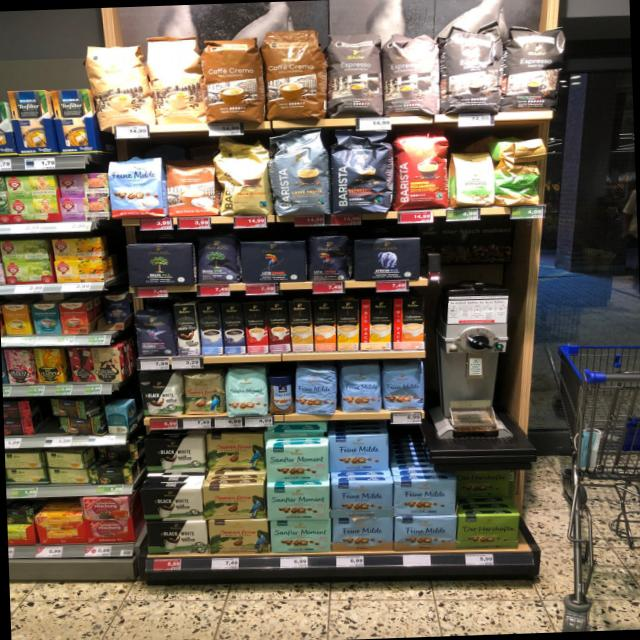AB Gemahlen: (352, 236, 422, 282)
Athiopien Bohne: (496, 160, 543, 208)
Athiopien Gemahlen: (450, 148, 496, 206)
BM Bohne: (197, 232, 240, 284)
BM Gemahlen: (126, 240, 197, 288)
BW Bohne: (137, 370, 181, 418)
BW Gemahlen: (144, 436, 206, 475), (146, 518, 208, 556), (140, 486, 204, 522)
Barista CB: (213, 146, 272, 217)
Barista CC: (269, 130, 330, 217)
Barista Espresso: (330, 126, 396, 214)
Barista Kolumbien: (394, 131, 452, 211)
C Fino Bohne: (133, 310, 175, 358)
CC Mild: (83, 42, 152, 128), (146, 34, 204, 124)
CC Vollmundig: (163, 162, 220, 218)
CC Vollmundig 36 Pads: (261, 28, 327, 120), (200, 36, 263, 124)
Colombia BB Bohne: (182, 371, 225, 416)
Colombia BB Gemahlen: (202, 482, 266, 520), (208, 517, 270, 555), (206, 430, 264, 470)
Espresso Aromatisch: (324, 29, 384, 118), (382, 30, 441, 115)
Espresso Kraftig: (504, 21, 568, 112)
Espresso S Art: (443, 23, 505, 114)
FM 36 Pads: (106, 156, 166, 220)
FM Bohne: (294, 364, 337, 416), (339, 361, 382, 412), (381, 362, 425, 411)
FM Gemahlen: (394, 513, 457, 552), (328, 432, 389, 472), (394, 477, 456, 516), (331, 478, 394, 516), (332, 515, 394, 552)
FM Instant: (266, 372, 296, 415)
Herzhatfe Mundig: (458, 512, 520, 550)
LG Bohne: (308, 232, 350, 281)
LG Gemahlen: (238, 238, 308, 284)
SM Bohne: (224, 366, 268, 416)
SM Gemahlen: (264, 444, 330, 483), (266, 482, 330, 521), (270, 518, 332, 554)
Simo CCMild: (360, 298, 392, 350)
Simo CCMild bigpack: (335, 298, 359, 351)
Simo CCVollmundig: (393, 296, 424, 348)
Simo CCVollmundig bigpack: (313, 298, 336, 351)
Simo Decaff: (288, 299, 312, 352)
Simo Es Brazil: (244, 301, 268, 353)
Simo Es Caramel: (266, 300, 290, 352)
Simo Es Elegant: (172, 303, 200, 354)
Simo Es Kraft: (220, 302, 246, 354)
Simo Es Vanilla: (198, 302, 222, 354)
